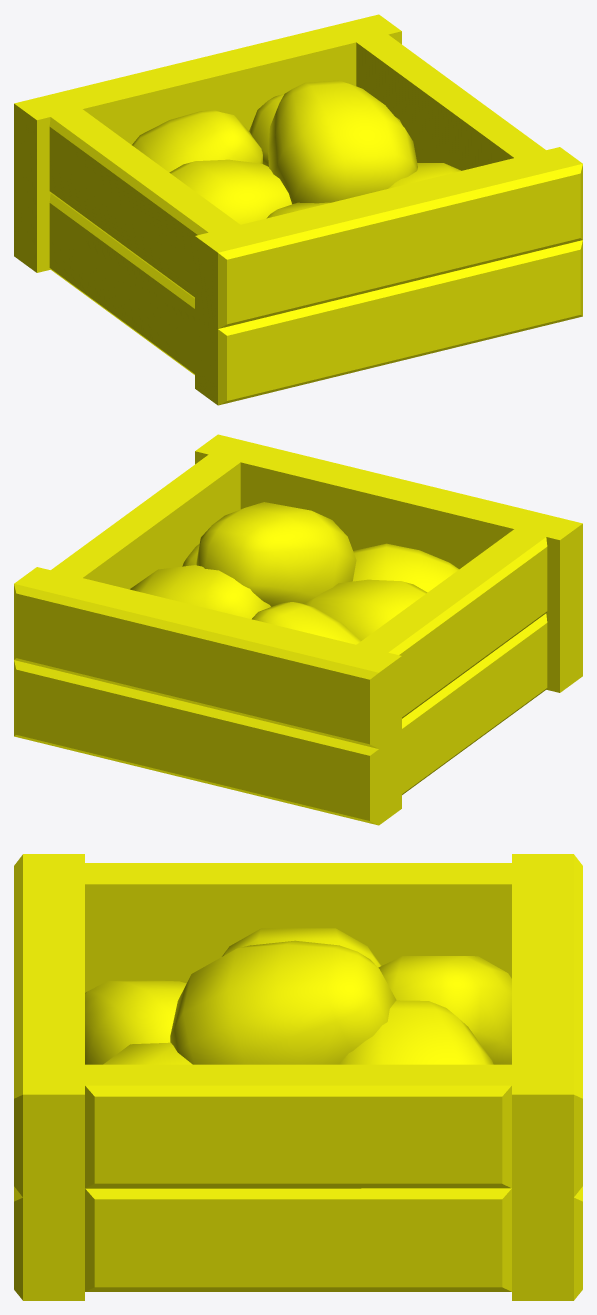
Rendered from crate_potatoes.gltf.
3 renders of one model, top to bottom at view 1: azimuth 30°, elevation 25°; view 2: azimuth 150°, elevation 25°; view 3: azimuth 270°, elevation 25°, orthographic. The views are drawn at different scales.
Parts seen in each view (by area): view 1: crate_potatoes; view 2: crate_potatoes; view 3: crate_potatoes.
Part boxes in pixels (x1,y1,x2,y2): crate_potatoes: (14, 14, 582, 405); crate_potatoes: (14, 434, 582, 825); crate_potatoes: (14, 854, 582, 1300).
Bounding box in the file's own units: 2 × 0.9658 × 2.
1 material, 1 textured.
